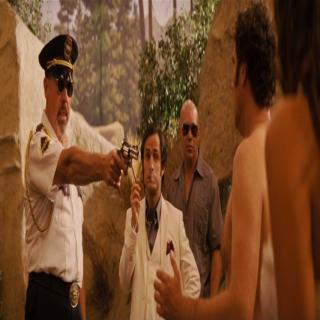gun: (110, 138, 139, 188)
